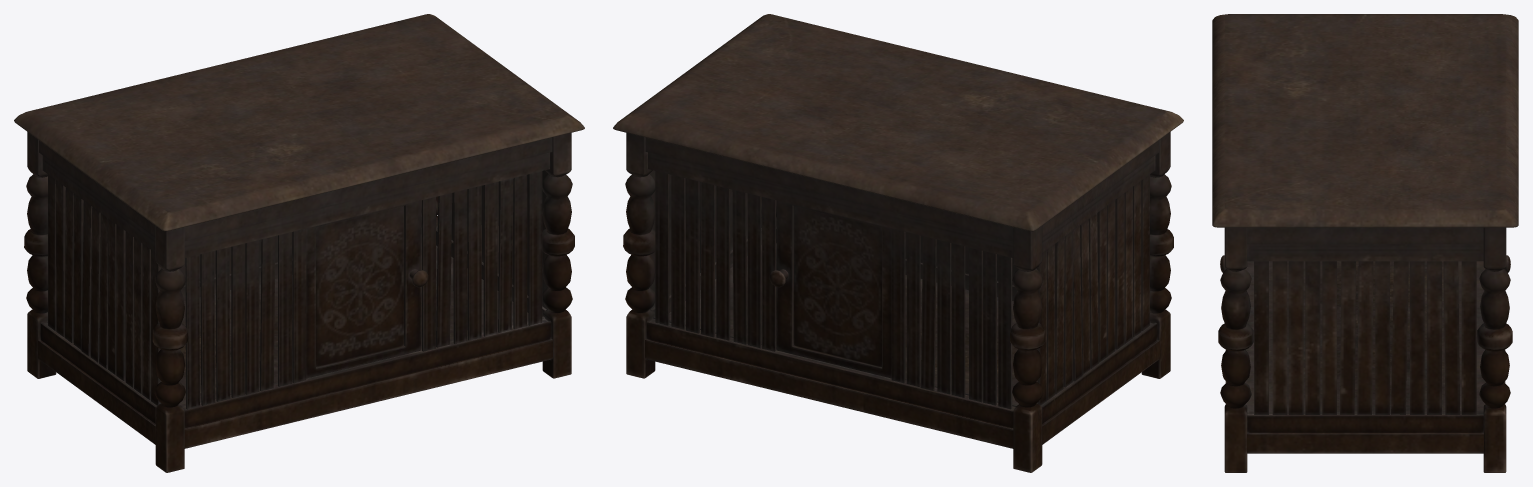
File: gallinera_table_1k.gltf
3 renders of one model, left to right at view 1: azimuth 30°, elevation 25°; view 2: azimuth 150°, elevation 25°; view 3: azimuth 270°, elevation 25°, orthographic.
Parts seen in each view (by area): view 1: gallinera_table, gallinera_table_door_a; view 2: gallinera_table, gallinera_table_door_b; view 3: gallinera_table.
Part boxes in pixels (x1,y1,x2,y2): gallinera_table: [14, 14, 584, 472]; gallinera_table_door_a: [306, 200, 428, 378]; gallinera_table: [613, 14, 1183, 472]; gallinera_table_door_b: [769, 200, 891, 378]; gallinera_table: [1212, 14, 1518, 472].
Bounding box in the file's own units: 0.8301 × 0.4878 × 0.5183.
Materials: 1 (1 with a texture image).
